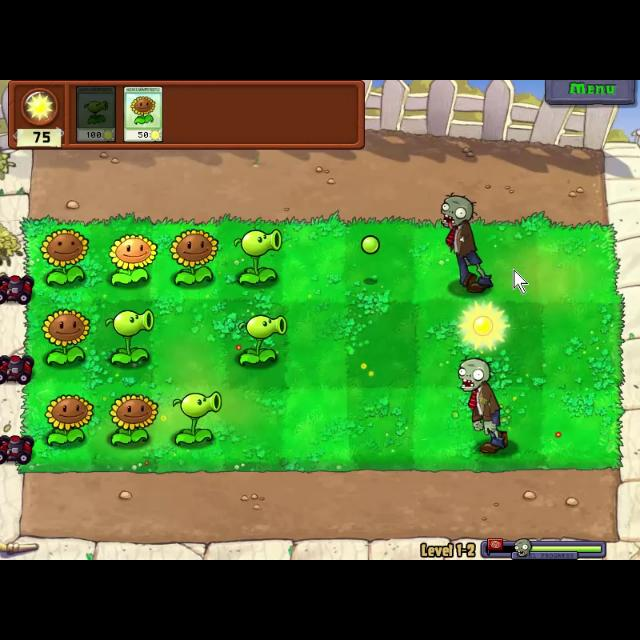Garden: (18, 213, 626, 472)
Menu Button: (543, 80, 635, 104)
Mower: (0, 353, 38, 387), (0, 433, 34, 465), (1, 272, 36, 302)
Peashooter: (74, 84, 118, 144)
Peashooter Seed: (103, 305, 161, 369), (232, 225, 288, 287), (236, 311, 290, 369), (170, 390, 222, 446)
Seed Panel: (7, 80, 369, 152)
Sun: (458, 301, 508, 354)
Sunflower: (122, 83, 164, 143)
Sunflower Seed: (36, 224, 90, 290), (103, 390, 159, 452), (105, 228, 157, 294), (38, 391, 98, 447), (168, 227, 220, 290), (37, 308, 89, 368)
Zombie: (454, 352, 514, 458), (439, 192, 498, 296)
